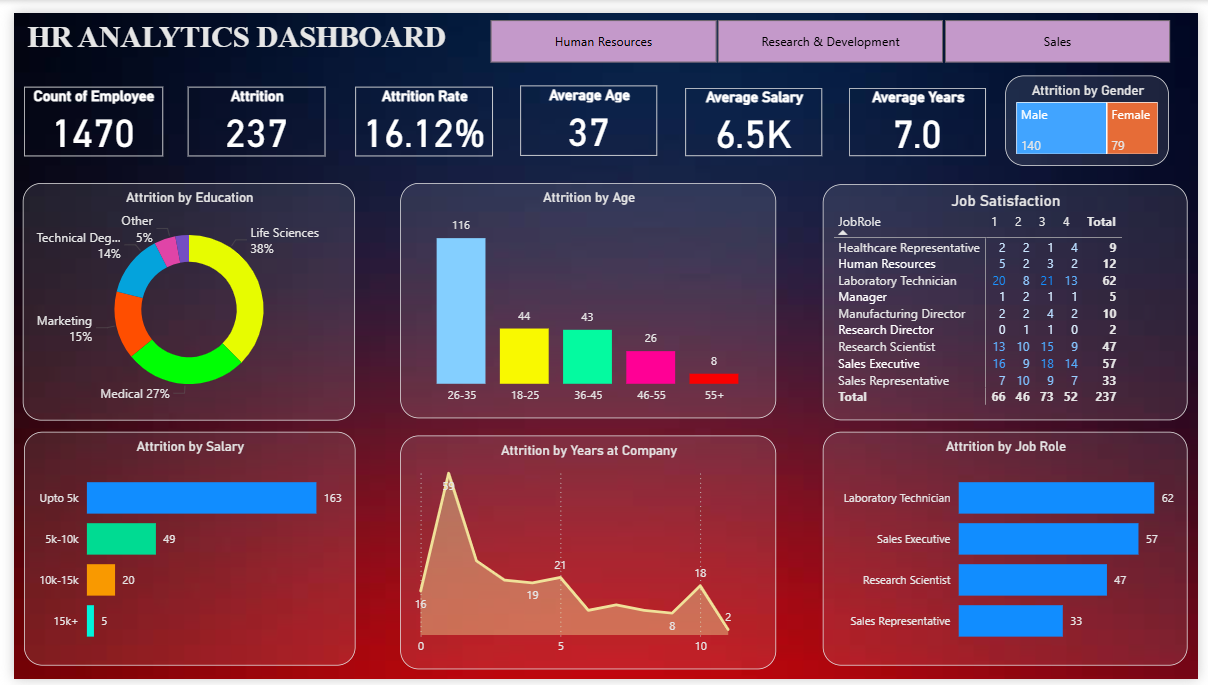

The page's visual inventory and layout, read from the dashboard file:
{"tool":"powerbi","page":{"name":"Page 1","canvas":[1280,720],"ordinal":0},"visuals":[{"type":"card","title":"Count of Employee","fields":{"Values":["CountNonNull(HR_Analytics.EmpID)"]},"box":[10.3,79.1,150,75],"z":0},{"type":"card","title":"Attrition","fields":{"Values":["select","Sum(HR_Analytics.AttritionCount)"]},"box":[187.8,79.1,149,75.5],"z":1000},{"type":"card","title":"Attrition Rate","fields":{"Values":["HR_Analytics.AttritionRate"]},"box":[369.5,79.1,149,75.5],"z":2000},{"type":"card","title":"Average Age","fields":{"Values":["Avg(HR_Analytics.Age)"]},"box":[546.8,79,148.4,76],"z":3000},{"type":"card","title":"Average Years","fields":{"Values":["Avg(HR_Analytics.YearsAtCompany)"]},"box":[902.7,81.4,148.4,73.6],"z":4000},{"type":"card","title":"Average Salary","fields":{"Values":["Avg(HR_Analytics.MonthlyIncome)"]},"box":[725.4,81.4,148.4,73.6],"z":5000},{"type":"donutChart","title":"Attrition by Education","fields":{"Category":["HR_Analytics.EducationField"],"Y":["Sum(HR_Analytics.AttritionCount)"]},"box":[9.5,183.8,359.5,256.8],"z":6000},{"type":"columnChart","title":"Attrition by Age","fields":{"Category":["HR_Analytics.AgeGroup"],"Y":["Sum(HR_Analytics.AttritionCount)"]},"box":[417.6,183.8,406.8,254.1],"z":7000},{"type":"pivotTable","title":"Job Satisfaction","fields":{"Rows":["HR_Analytics.JobRole"],"Columns":["HR_Analytics.JobSatisfaction"],"Values":["Sum(HR_Analytics.AttritionCount)"]},"box":[874.3,185.1,394.6,255.4],"z":8000},{"type":"barChart","title":"Attrition by Salary","fields":{"Category":["HR_Analytics.SalarySlab"],"Y":["Sum(HR_Analytics.AttritionCount)"]},"box":[10.8,452.7,358.1,252.7],"z":9000},{"type":"barChart","title":"Attrition by Job Role","fields":{"Y":["Sum(HR_Analytics.AttritionCount)"],"Category":["HR_Analytics.JobRole"]},"box":[874.3,452.7,394.6,252.7],"z":10000},{"type":"areaChart","title":"Attrition by Years at Company","fields":{"Category":["HR_Analytics.YearsAtCompany"],"Y":["Sum(HR_Analytics.AttritionCount)"]},"box":[417.6,456.8,406.8,252.7],"z":11000},{"type":"treemap","title":"Attrition by Gender","fields":{"Group":["HR_Analytics.Gender"],"Values":["Sum(HR_Analytics.AttritionCount)"]},"box":[1071.6,67.6,177,97.3],"z":12000},{"type":"slicer","fields":{"Values":["HR_Analytics.Department"]},"box":[494.6,5.4,774.3,50],"z":13000},{"type":"textbox","box":[9.5,2.7,508.1,64.9],"z":14000}]}

Visuals, with their boxes in screenshot pixels (x1, y1, x2, y2), scaled from the page's 1280x720 canvas onto the 1208x685 screenshot:
"Count of Employee" card: left=10, top=75, right=151, bottom=147
"Attrition" card: left=177, top=75, right=318, bottom=147
"Attrition Rate" card: left=349, top=75, right=489, bottom=147
"Average Age" card: left=516, top=75, right=656, bottom=147
"Average Years" card: left=852, top=77, right=992, bottom=147
"Average Salary" card: left=685, top=77, right=825, bottom=147
"Attrition by Education" donutChart: left=9, top=175, right=348, bottom=419
"Attrition by Age" columnChart: left=394, top=175, right=778, bottom=417
"Job Satisfaction" pivotTable: left=825, top=176, right=1198, bottom=419
"Attrition by Salary" barChart: left=10, top=431, right=348, bottom=671
"Attrition by Job Role" barChart: left=825, top=431, right=1198, bottom=671
"Attrition by Years at Company" areaChart: left=394, top=435, right=778, bottom=675
"Attrition by Gender" treemap: left=1011, top=64, right=1178, bottom=157
slicer - HR_Analytics.Department: left=467, top=5, right=1198, bottom=53
textbox: left=9, top=3, right=488, bottom=64
